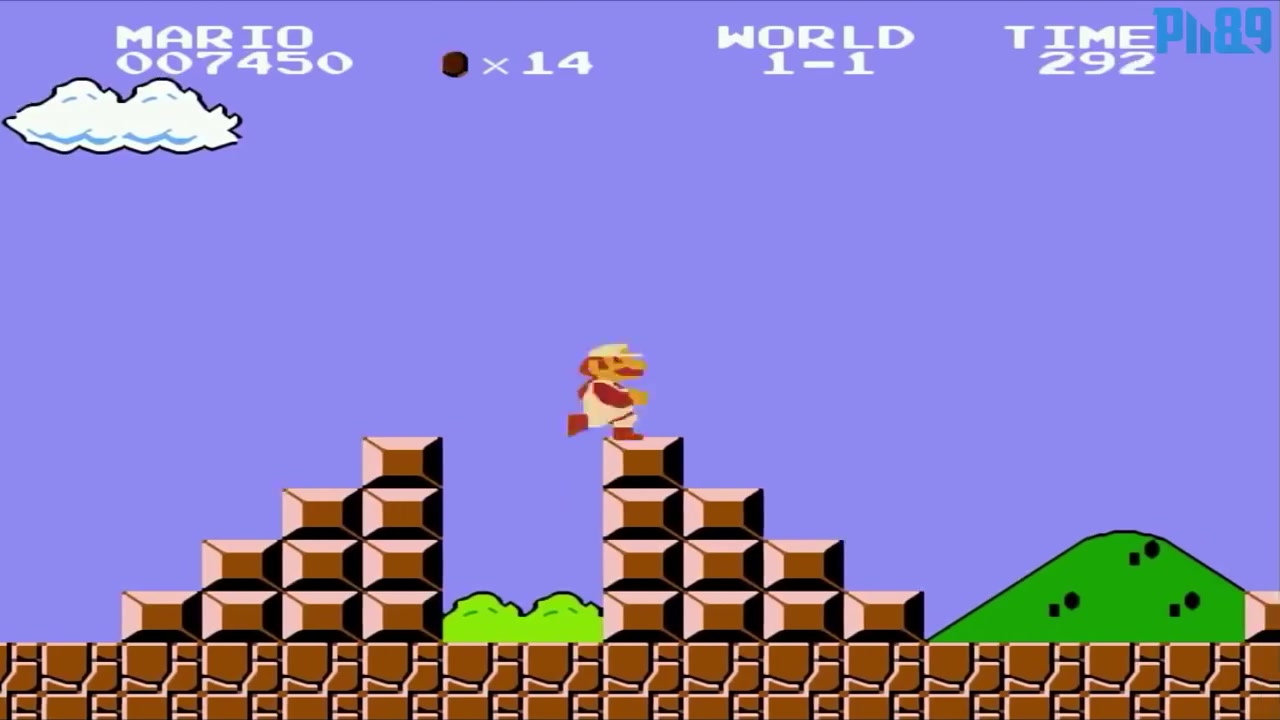mario: (556, 335, 646, 450)
